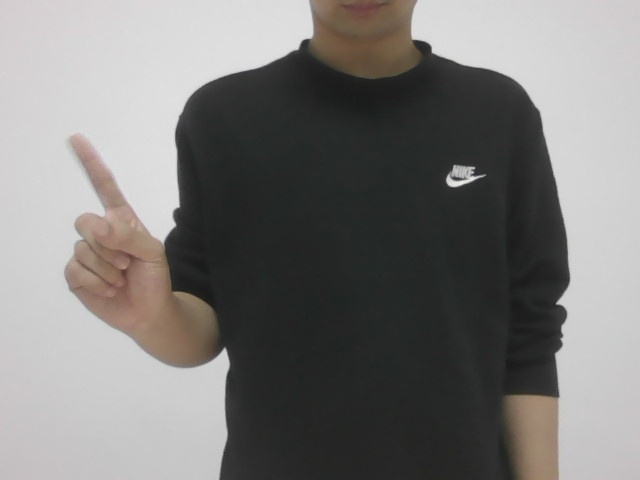what: (44, 124, 180, 341)
